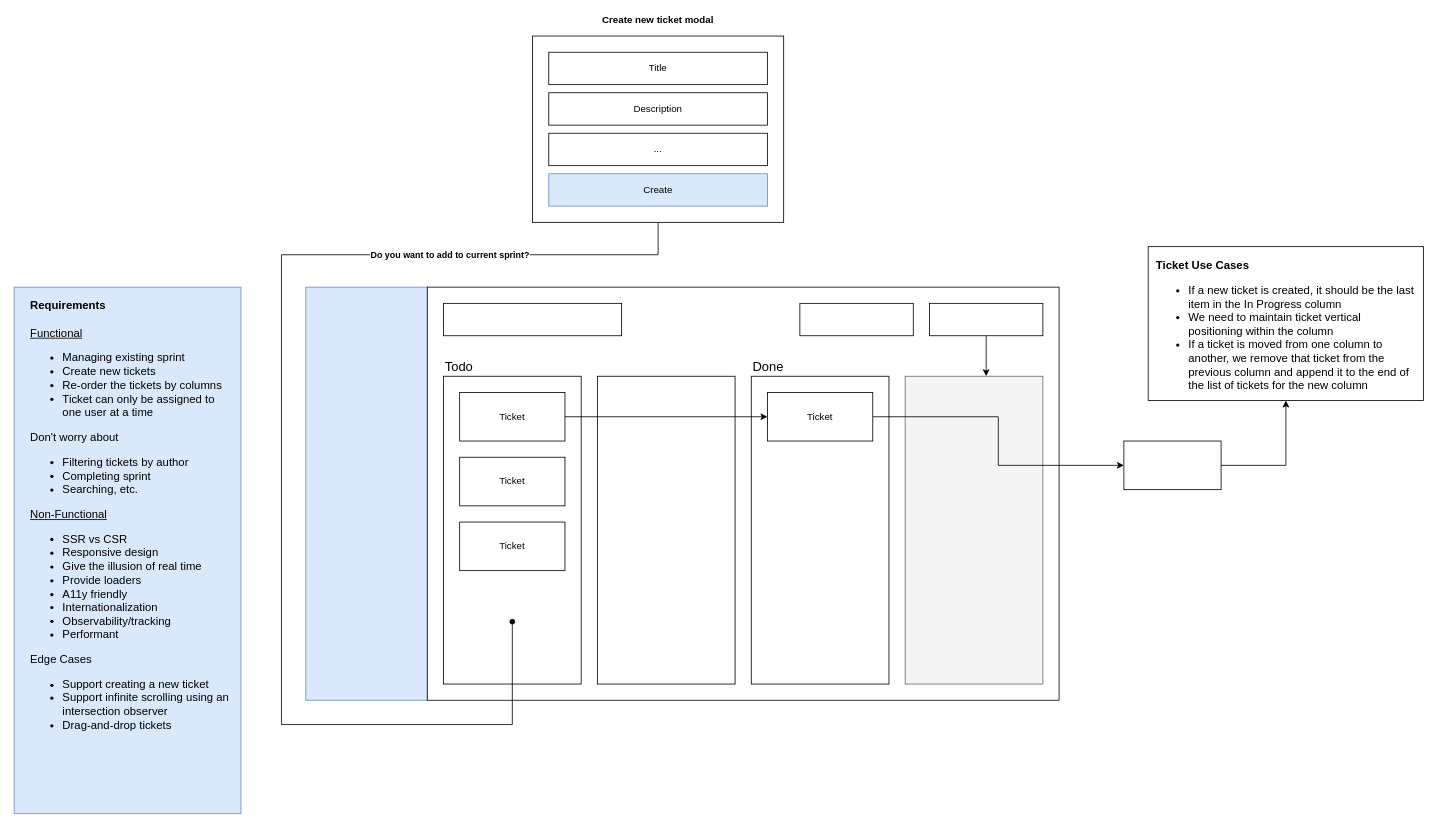
This 1438x828 diagram has some shape labels left out. Each missing label, with the centre of its shape:
"Add Ticket" goes at point (856, 319).
"Draggable API" goes at point (1172, 465).
"In Progress" goes at point (666, 529).
"Menu" goes at point (366, 493).
"New Column" goes at point (986, 319).
"Sprint Name" goes at point (532, 319).
